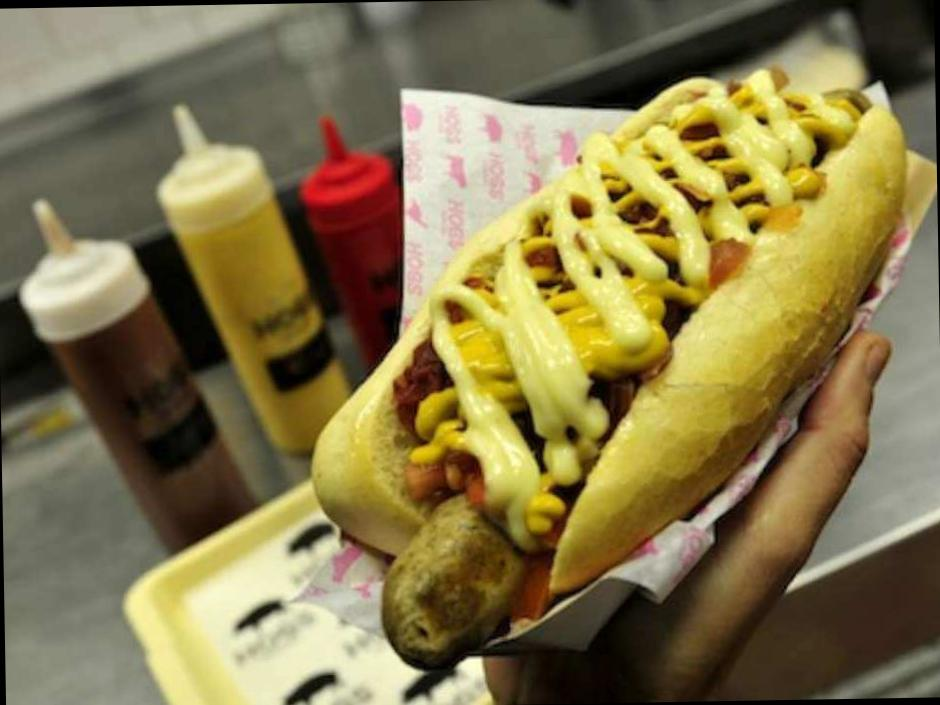Completos: (294, 88, 936, 650)
